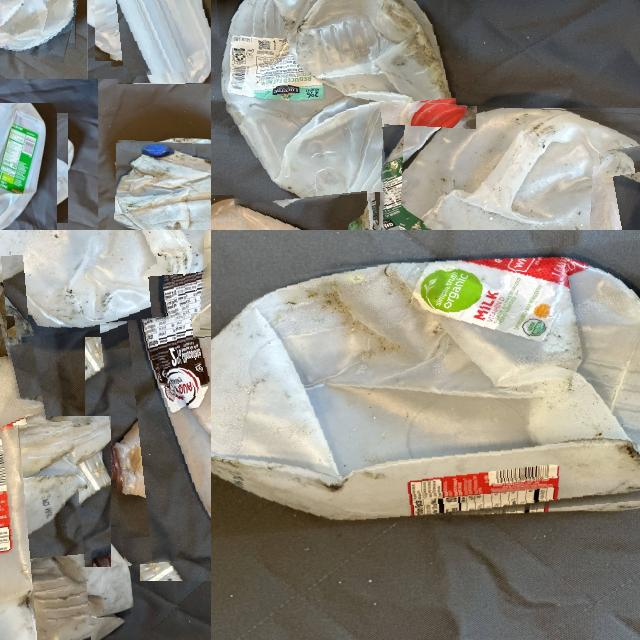milk-jug: (211, 248, 640, 531), (218, 0, 459, 230), (375, 103, 640, 230), (105, 304, 211, 560), (0, 230, 211, 337), (0, 427, 87, 640), (0, 351, 66, 631), (114, 140, 211, 230), (102, 0, 211, 76), (0, 108, 62, 228), (0, 0, 79, 56)
